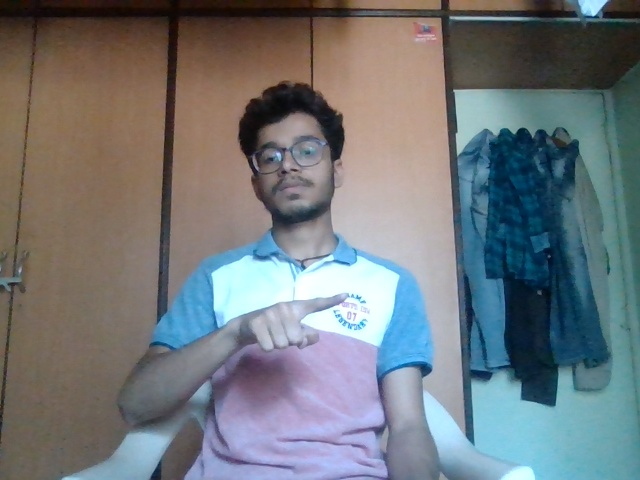you: (231, 282, 353, 363)
